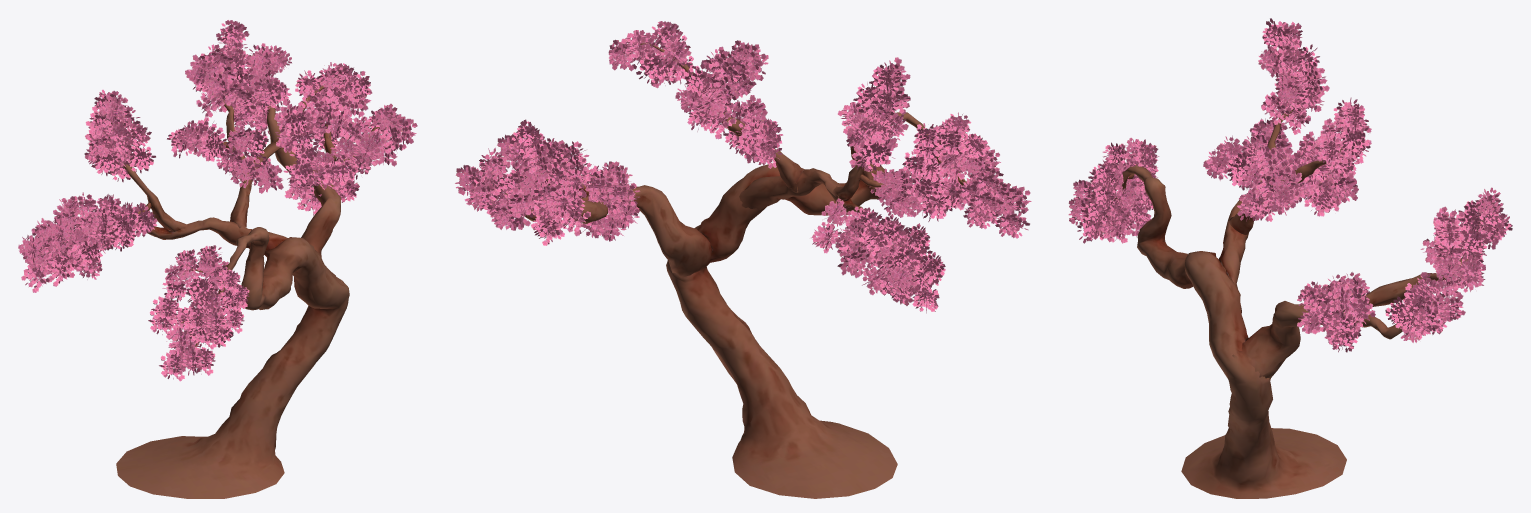
The model's file is cherry_blossom.glb.
The picture shows the model from 3 angles, left to right: view 1: azimuth 30°, elevation 25°; view 2: azimuth 150°, elevation 25°; view 3: azimuth 270°, elevation 25°; orthographic projection. The views are drawn at different scales.
Parts seen in each view (by area): view 1: Blossoms, Bark; view 2: Blossoms, Bark; view 3: Blossoms, Bark.
Part boxes in pixels (<box>): Blossoms: <box>18,20,417,381</box>; Bark: <box>71,78,393,498</box>; Blossoms: <box>455,21,1031,313</box>; Bark: <box>501,43,1001,498</box>; Blossoms: <box>1068,18,1512,352</box>; Bark: <box>1115,72,1487,498</box>.
Bounding box in the file's own units: 21.75 × 20.05 × 20.16.
2 materials, 2 textured.
